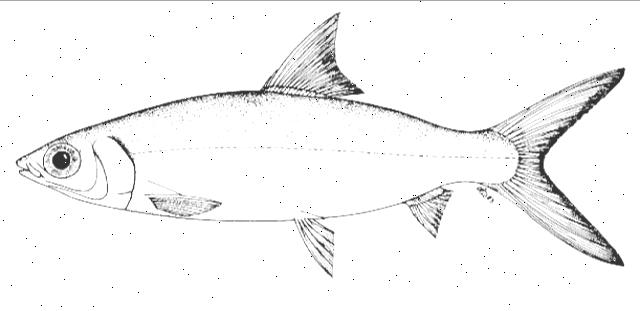Mulut: (7, 142, 45, 198)
Sirip Anal: (400, 182, 458, 240)
Sirip Dada: (141, 183, 227, 233)
Sirip Ekor: (486, 55, 634, 278)
Sirip Perut: (292, 205, 342, 284)
Sirip Punggung: (257, 5, 371, 112)
